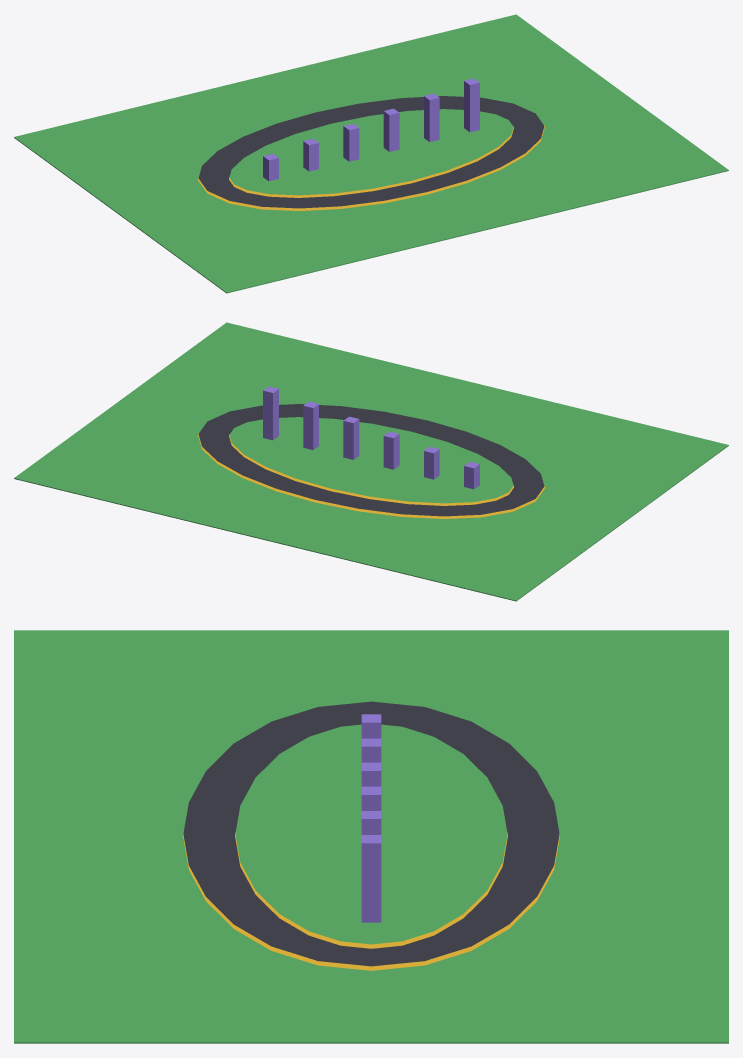
Rendered from loop_park.glb.
3 views of the same model, one above another, from view 1: azimuth 30°, elevation 25°; view 2: azimuth 150°, elevation 25°; view 3: azimuth 270°, elevation 25° (orthographic). The views are drawn at different scales.
Visible parts, largest first — view 1: Grass, Road, Walls, Tower5, Tower4, Tower3, Tower2, Tower1; view 2: Grass, Road, Walls, Tower5, Tower4, Tower3, Tower2, Tower1; view 3: Grass, Road, Walls, Tower5.
Part boxes in pixels (bbox=[...]): Grass: bbox=[14, 14, 728, 293]; Road: bbox=[198, 96, 544, 208]; Walls: bbox=[198, 125, 544, 210]; Tower5: bbox=[464, 78, 479, 132]; Tower4: bbox=[424, 93, 439, 141]; Tower3: bbox=[383, 108, 399, 151]; Tower2: bbox=[343, 123, 359, 161]; Tower1: bbox=[303, 138, 318, 171]; Grass: bbox=[14, 322, 728, 601]; Road: bbox=[198, 404, 544, 516]; Walls: bbox=[198, 433, 544, 518]; Tower5: bbox=[263, 386, 278, 440]; Tower4: bbox=[303, 401, 318, 449]; Tower3: bbox=[343, 416, 359, 459]; Tower2: bbox=[383, 431, 399, 469]; Tower1: bbox=[424, 446, 439, 479]; Grass: bbox=[14, 630, 728, 1043]; Road: bbox=[183, 701, 559, 966]; Walls: bbox=[183, 833, 559, 970]; Tower5: bbox=[361, 835, 381, 922].
Bounding box in the file's own units: 300 × 27.5 × 220.
